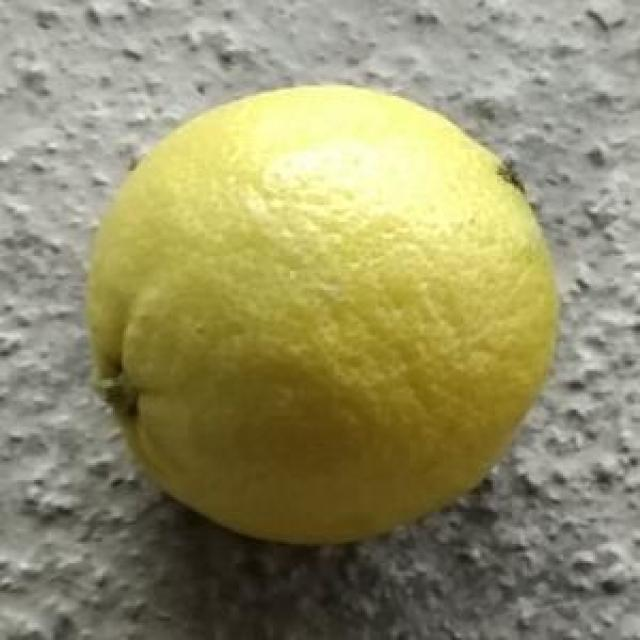lemon: (85, 82, 561, 549)
